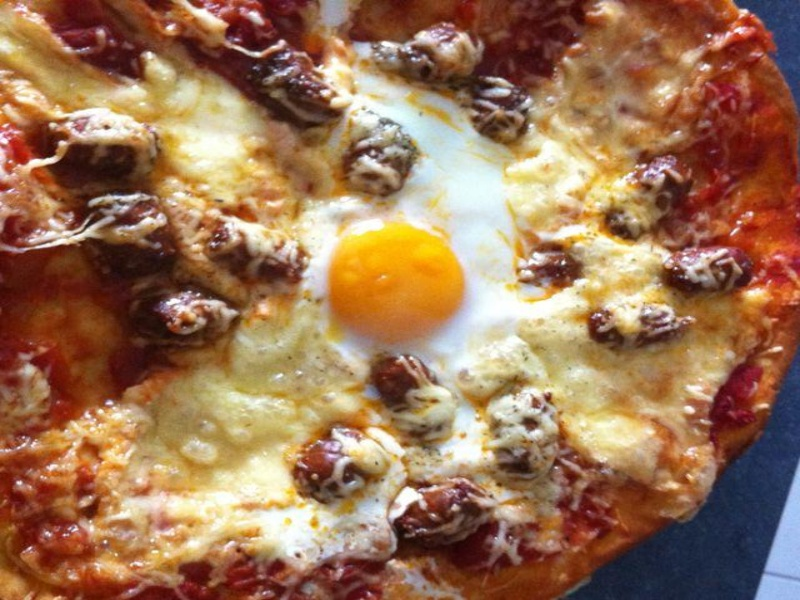champignon: (389, 260, 498, 328), (70, 350, 160, 419), (162, 190, 249, 260), (190, 496, 281, 562), (200, 338, 288, 406)
